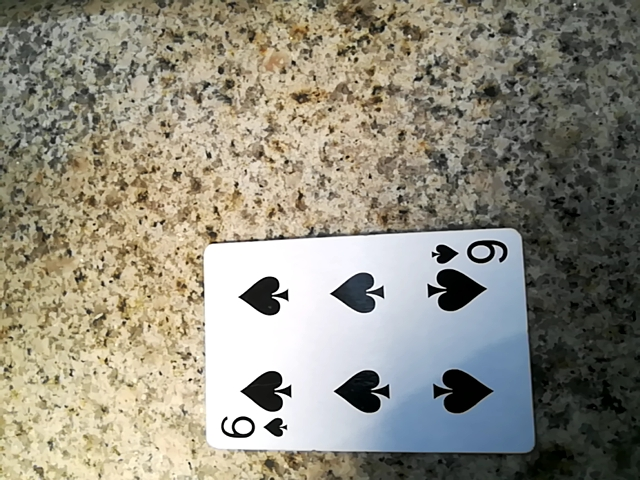ht 6: (195, 229, 536, 458)
